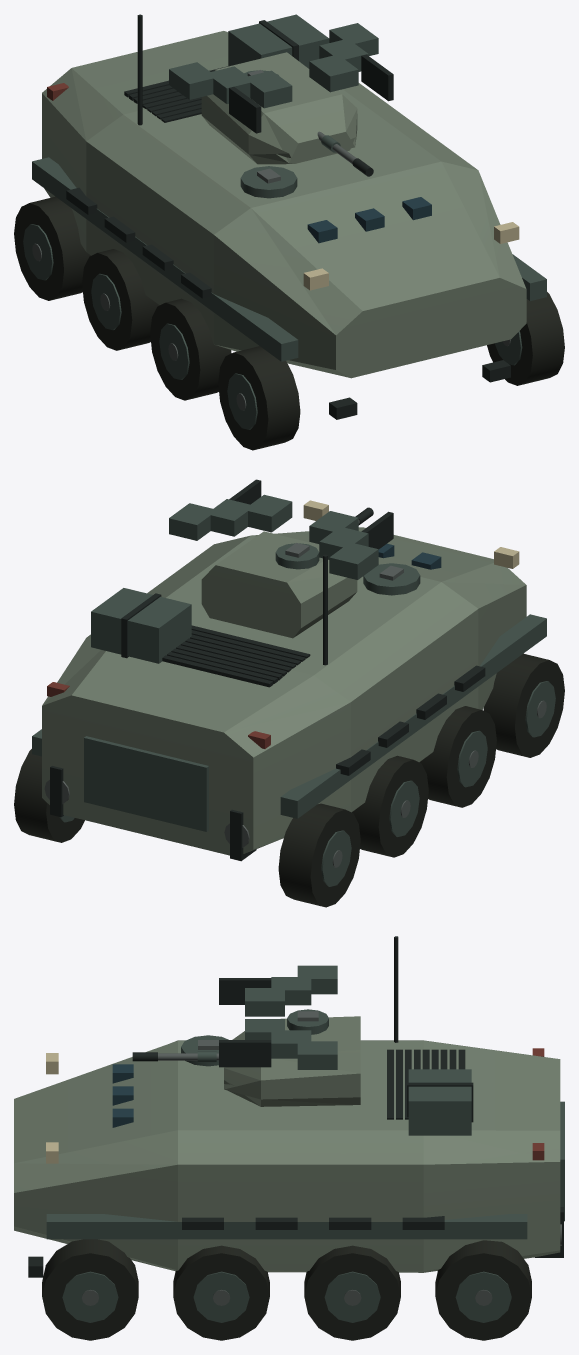
The model's file is apc.glb.
3 renders of one model, top to bottom at view 1: azimuth 30°, elevation 25°; view 2: azimuth 150°, elevation 25°; view 3: azimuth 270°, elevation 25°, orthographic. The views are drawn at different scales.
Parts seen in each view (by area): view 1: armor (×2), equipment (×3), glass; view 2: armor (×2), equipment (×2), glass; view 3: armor (×2), equipment (×3), glass.
Part boxes in pixels (<box>): armor (×2): <box>42,31,526,378</box>; equipment (×3): <box>14,14,564,450</box>; glass: <box>307,197,431,243</box>; armor (×2): <box>42,527,526,855</box>; equipment (×2): <box>14,479,564,907</box>; glass: <box>378,543,441,569</box>; armor (×2): <box>14,1016,560,1272</box>; equipment (×3): <box>28,936,564,1340</box>; glass: <box>112,1064,133,1127</box>.
Bounding box in the file's own units: 3.19 × 3.05 × 5.24.
